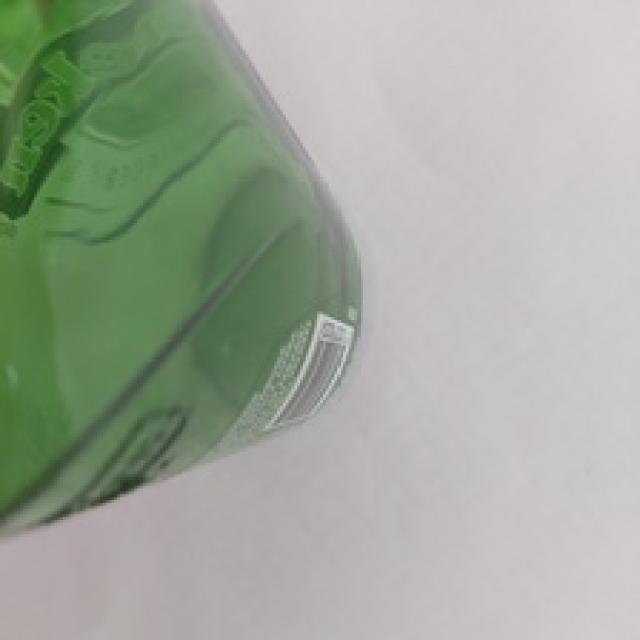Glass: (0, 0, 368, 543)
